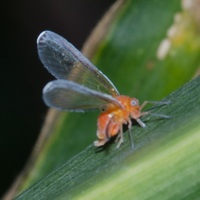insect: (37, 30, 169, 146)
